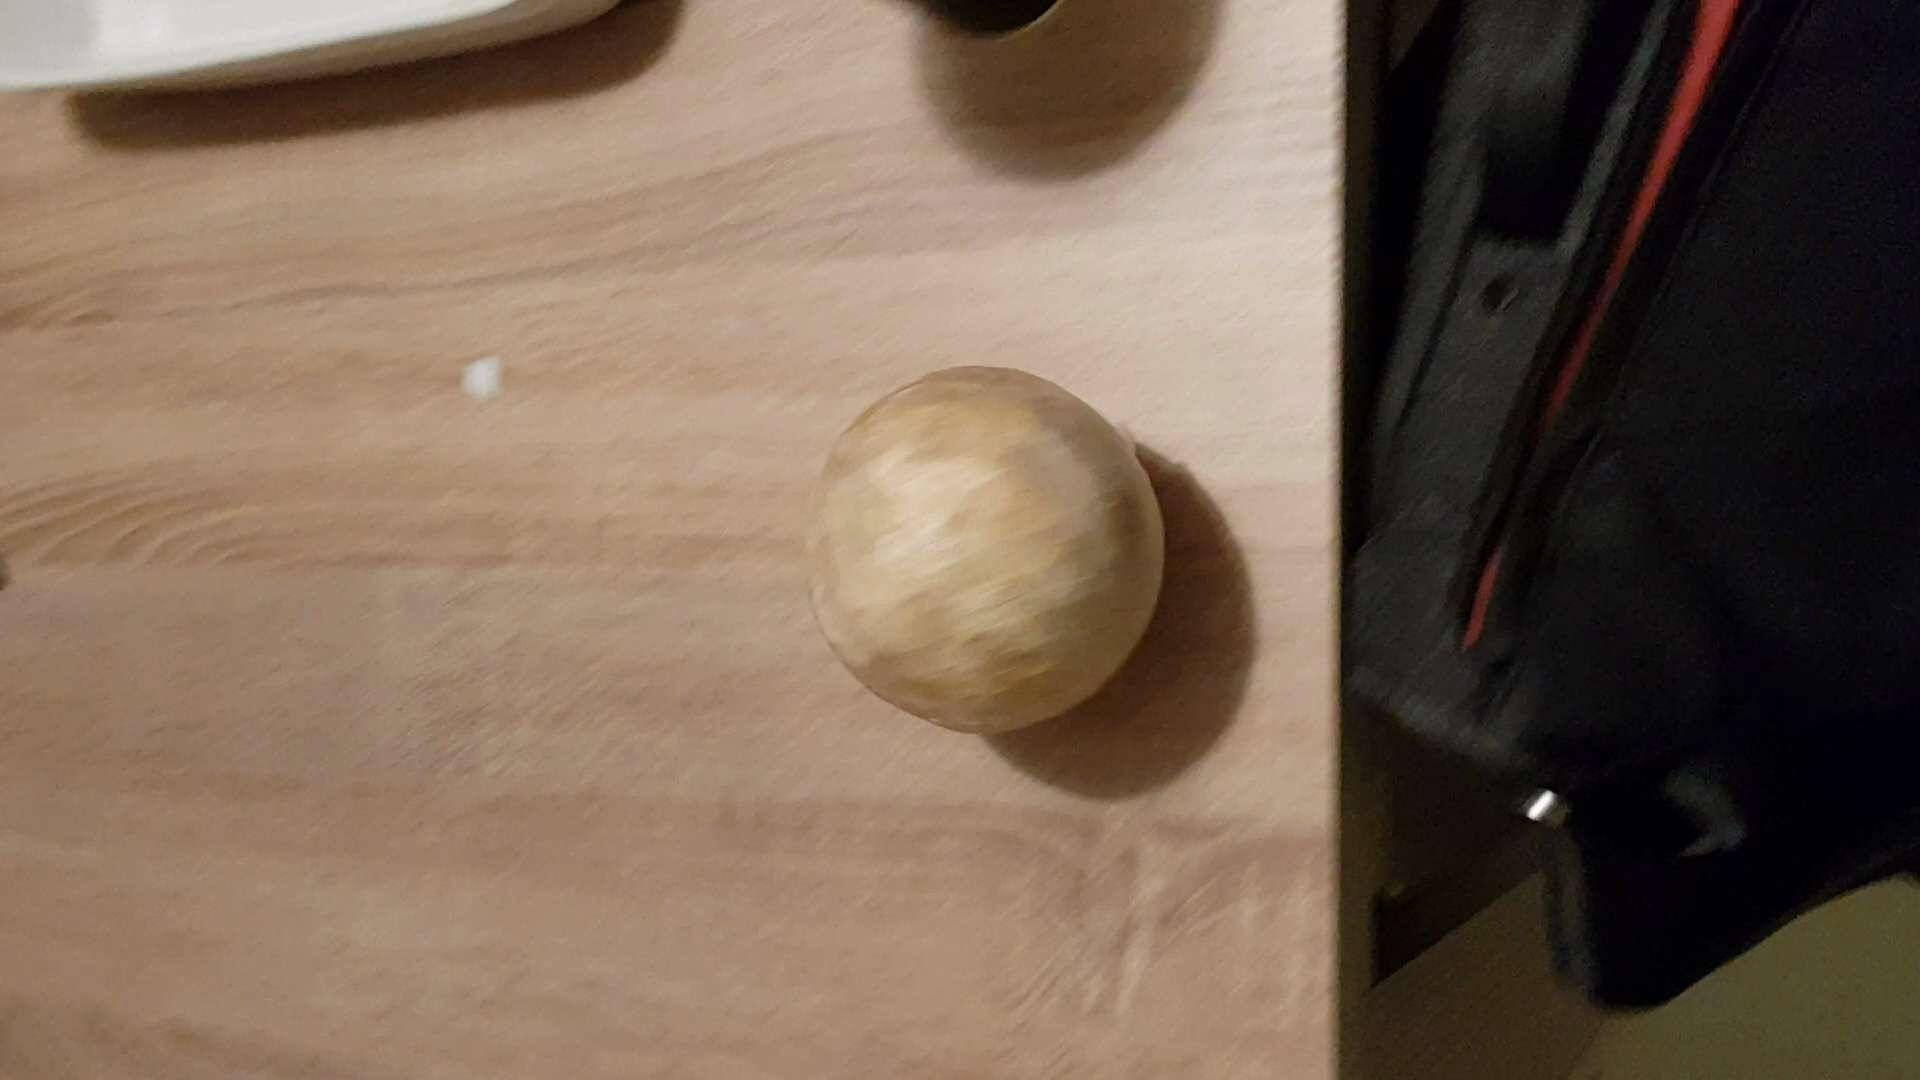Sphere: (804, 365, 1154, 729)
